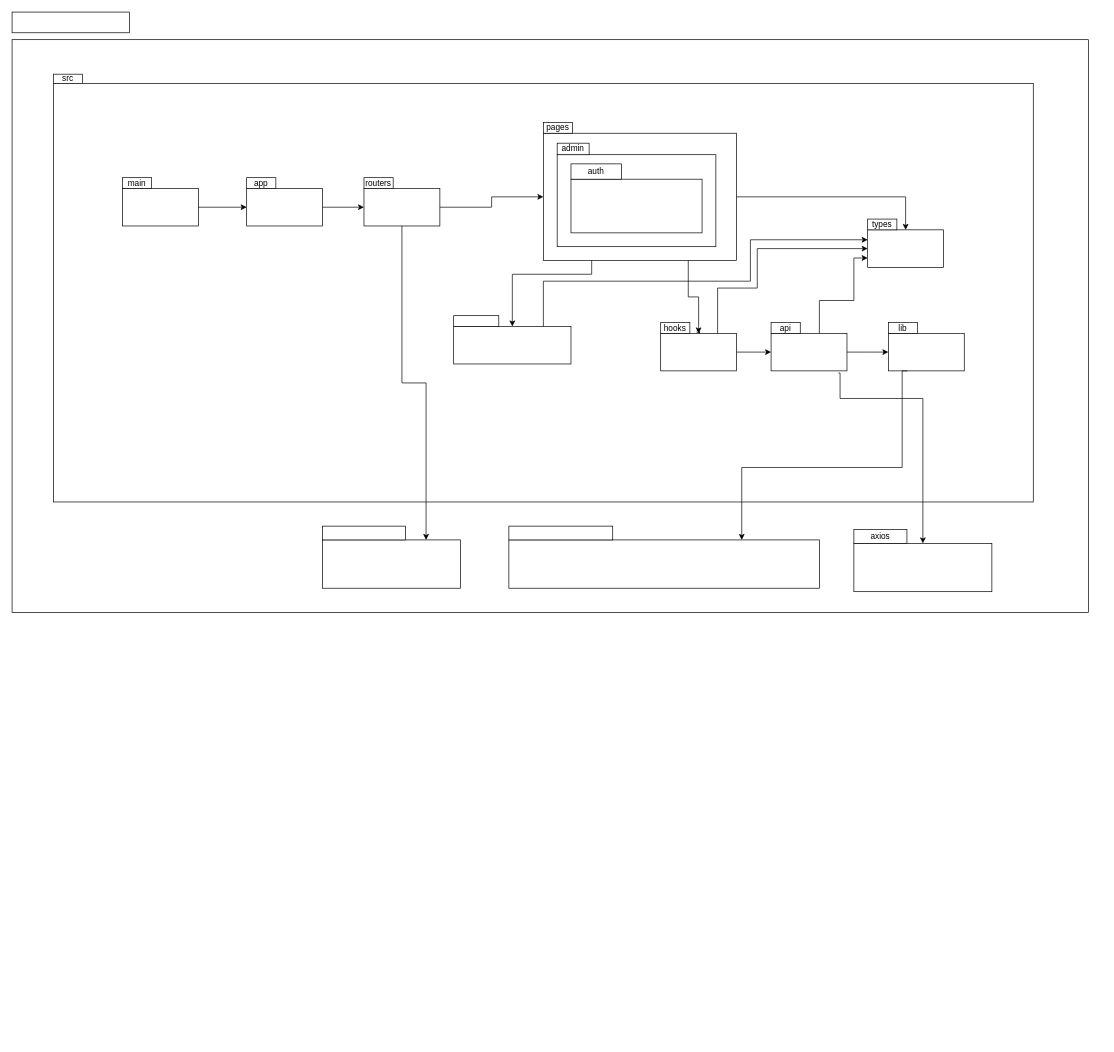
The diagram is 1114 pixels wide and 1052 high, and some of its shapes have lost their labels. The box of each missing label's shape, as (x1, y1, x2, y2) in pixels:
@supabase/supabase-js: (508, 525, 613, 540)
components: (453, 315, 499, 326)
inmuebles-el-guarzo-frontend: (11, 11, 129, 33)
react-router-dom: (322, 525, 405, 540)
